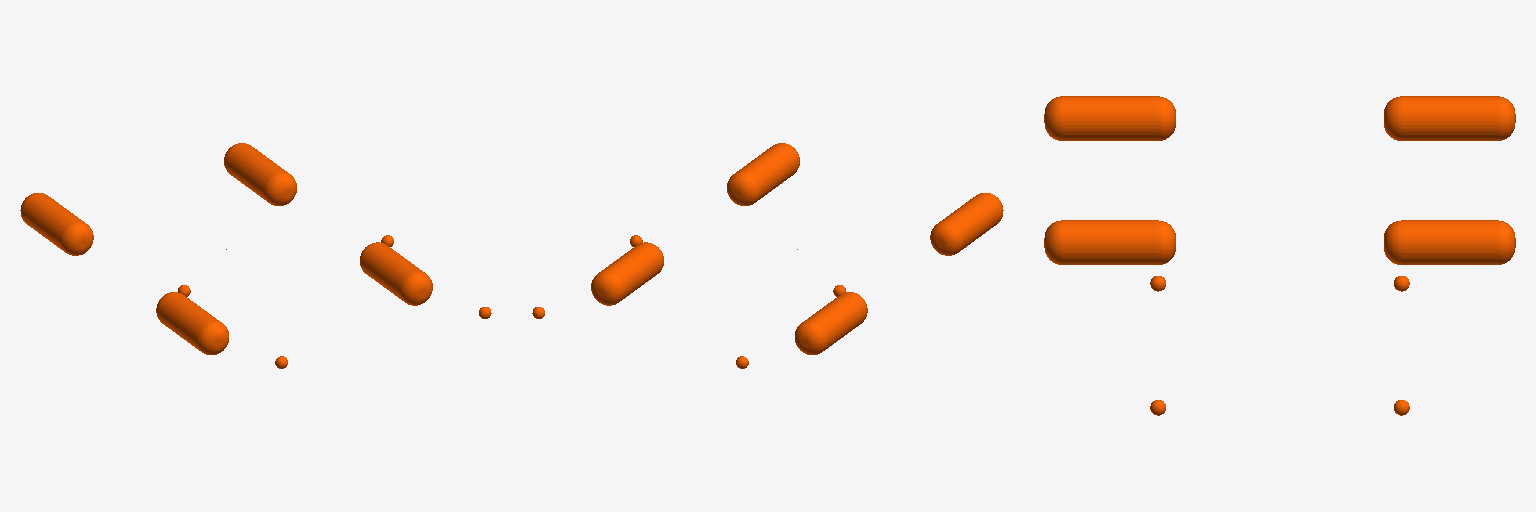
--- Facts derived from the render (not from the file) ---
3 views of the same robot in one strip: view 1: azimuth 30°, elevation 25°; view 2: azimuth 150°, elevation 25°; view 3: azimuth 270°, elevation 25° (orthographic).
Robot: cyberdog2_description — 23 links, 22 joints (12 revolute, 10 fixed); root link base; default pose: all joints at 0 but 4 set to mid-range because 0 is outside their limits (FR_calf_joint = -1.53, FL_calf_joint = -1.53, RR_calf_joint = -1.53, RL_calf_joint = -1.53).
Visible links, largest first — view 1: FL_thigh, FR_thigh, RL_thigh, RR_thigh; view 2: FR_thigh, FL_thigh, RR_thigh, RL_thigh; view 3: RR_thigh, RL_thigh, FR_thigh, FL_thigh.
Link boxes in pixels (x1,y1,x2,y2): FL_thigh: (224, 143, 296, 205); FR_thigh: (360, 242, 432, 305); RL_thigh: (20, 193, 93, 255); RR_thigh: (156, 292, 228, 354); FR_thigh: (727, 143, 799, 205); FL_thigh: (591, 242, 663, 305); RR_thigh: (930, 193, 1003, 255); RL_thigh: (795, 292, 867, 354); RR_thigh: (1044, 96, 1175, 140); RL_thigh: (1384, 96, 1515, 140); FR_thigh: (1044, 220, 1175, 264); FL_thigh: (1384, 220, 1515, 264).
Bounding box of the posed robot: 0.536 × 0.5263 × 0.1561 m (x, y, z).
Meshes: 5 distinct files referenced, 4 mesh visuals loaded (2 Collada DAE); not drawn: 9 (reference not matched to a file when rendering).

robot.urdf — cyberdog2_description:
<?xml version="1.0" ?>
<!-- =================================================================================== -->
<!-- |    This document was autogenerated by xacro from resources/robots/cyberdog2/xacro/robot.xacro | -->
<!-- |    EDITING THIS FILE BY HAND IS NOT RECOMMENDED                                 | -->
<!-- =================================================================================== -->
<robot name="cyberdog2_description">
  <!-- <xacro:property name="abad_damping" value="0.01" />
    <xacro:property name="hip_damping" value="0.01" />
    <xacro:property name="knee_damping" value="0.01" />
    <xacro:property name="abad_friction" value="0.1" />
    <xacro:property name="hip_friction" value="0.1" />
    <xacro:property name="knee_friction" value="0.1" /> -->
  <!-- <xacro:include filename="gazebo.xacro" /> -->
  <material name="black">
    <color rgba="0.0 0.0 0.0 1.0"/>
  </material>
  <material name="blue">
    <color rgba="0.0 0.0 0.8 1.0"/>
  </material>
  <material name="green">
    <color rgba="0.0 0.8 0.0 1.0"/>
  </material>
  <material name="grey">
    <color rgba="0.2 0.2 0.2 1.0"/>
  </material>
  <material name="silver">
    <color rgba="0.9137254901960784 0.9137254901960784 0.8470588235294118 1.0"/>
  </material>
  <material name="orange">
    <color rgba="1.0 0.4235294117647059 0.0392156862745098 1.0"/>
  </material>
  <material name="brown">
    <color rgba="0.8705882352941177 0.8117647058823529 0.7647058823529411 1.0"/>
  </material>
  <material name="red">
    <color rgba="0.8 0.0 0.0 1.0"/>
  </material>
  <material name="white">
    <color rgba="1.0 1.0 1.0 1.0"/>
  </material>
  <link name="base">
    <visual>
      <origin rpy="0 0 0" xyz="0 0 0"/>
      <geometry>
        <box size="0.001 0.001 0.001"/>
      </geometry>
    </visual>
  </link>
  <joint name="floating_base" type="fixed">
    <origin rpy="0 0 0" xyz="0 0 0"/>
    <parent link="base"/>
    <child link="trunk"/>
  </joint>
  <link name="trunk">
    <visual>
      <origin rpy="0 0 0" xyz="0 0 0"/>
      <geometry>
        <mesh filename="../meshes/body.dae" scale="1 1 1"/>
      </geometry>
    </visual>
    <collision>
      <origin rpy="0 0 0" xyz="0 0 0"/>
      <geometry>
        <box size="0.236 0.19 0.109"/>
      </geometry>
    </collision>
    <inertial>
      <origin rpy="0 0 0" xyz="0.0273 -0.000242 0.0143"/>
      <mass value="4.03"/>
      <inertia ixx="0.0185" ixy="-0.000173" ixz="-0.0102" iyy="0.0517" iyz="-2.83e-05" izz="0.0483"/>
    </inertial>
  </link>
  <!-- <joint name="imu_joint" type="fixed">
        <parent link="body" />
        <child link="imu_link" />
        <origin rpy="0 0 0" xyz="33.4e-3 -17.2765e-3 51.0469e-3" />
    </joint>

    <link name="imu_link">
        <inertial>
            <mass value="0.001" />
            <origin rpy="0 0 0" xyz="0 0 0" />
            <inertia ixx="0.0001" ixy="0" ixz="0" iyy="0.0001" iyz="0" izz="0.0001" />
        </inertial>
        <visual>
            <origin rpy="0 0 0" xyz="0 0 0" />
            <geometry>
                <box size="0.001 0.001 0.001" />
            </geometry>
        </visual>
        <collision>
            <origin rpy="0 0 0" xyz="0 0 0" />
            <geometry>
                <box size=".001 .001 .001" />
            </geometry>
        </collision>
    </link>

    <joint name="scan_joint" type="fixed">
        <parent link="body" />
        <child link="lidar_link" />
        <origin rpy="0 0 0" xyz="0.21425 0 0.0908" />
    </joint>

    <link name="lidar_link">    
      <inertial>
            <mass value="0.001" />
            <origin rpy="0 0 0" xyz="0 0 0" />
            <inertia ixx="0.0001" ixy="0" ixz="0" iyy="0.0001" iyz="0" izz="0.0001" />
      </inertial>
    </link>

    <joint name="D435_camera_joint" type="fixed">
        <parent link="body" />
        <child link="D435_camera_link" />
        <origin rpy="0 0 0" xyz="271.994e-3 25e-3 114.912e-3" />
    </joint>

    <link name="D435_camera_link">
        <inertial>
            <mass value="0.001" />
            <origin rpy="0 0 0" xyz="0 0 0" />
            <inertia ixx="0.0001" ixy="0" ixz="0" iyy="0.0001" iyz="0" izz="0.0001" />
        </inertial>
        <visual>
            <origin rpy="0 0 0" xyz="0 0 0" />
            <geometry>
                <box size="0.001 0.001 0.001" />
            </geometry>
        </visual>
        <collision>
            <origin rpy="0 0 0" xyz="0 0 0" />
            <geometry>
                <box size=".001 .001 .001" />
            </geometry>
        </collision>
    </link>

    <joint name="RGB_camera_joint" type="fixed">
        <parent link="body" />
        <child link="RGB_camera_link" />
        <origin rpy="0 0 0" xyz="275.76e-3 0 125.794e-3" />
    </joint>

    <link name="RGB_camera_link">
        <inertial>
            <mass value="0.001" />
            <origin rpy="0 0 0" xyz="0 0 0" />
            <inertia ixx="0.0001" ixy="0" ixz="0" iyy="0.0001" iyz="0" izz="0.0001" />
        </inertial>
        <visual>
            <origin rpy="0 0 0" xyz="0 0 0" />
            <geometry>
                <box size="0.001 0.001 0.001" />
            </geometry>
        </visual>
        <collision>
            <origin rpy="0 0 0" xyz="0 0 0" />
            <geometry>
                <box size=".001 .001 .001" />
            </geometry>
        </collision>
    </link>

    <joint name="AI_camera_joint" type="fixed">
        <parent link="body" />
        <child link="AI_camera_link" />
        <origin rpy="0 0 0" xyz="290.228e-3 0 147.420e-3" />
    </joint>

    <link name="AI_camera_link">
        <inertial>
            <mass value="0.001" />
            <origin rpy="0 0 0" xyz="0 0 0" />
            <inertia ixx="0.0001" ixy="0" ixz="0" iyy="0.0001" iyz="0" izz="0.0001" />
        </inertial>
        <visual>
            <origin rpy="0 0 0" xyz="0 0 0" />
            <geometry>
                <box size="0.001 0.001 0.001" />
            </geometry>
        </visual>
        <collision>
            <origin rpy="0 0 0" xyz="0 0 0" />
            <geometry>
                <box size=".001 .001 .001" />
            </geometry>
        </collision>
    </link> -->
  <joint name="FR_hip_joint" type="revolute">
    <origin rpy="0 0 0" xyz="0.164 -0.042 0"/>
    <parent link="trunk"/>
    <child link="FR_hip"/>
    <axis xyz="1 0 0"/>
    <dynamics damping="0.0" friction="0.0"/>
    <limit effort="12.0001" lower="-0.6806784082777885" upper="0.6806784082777885" velocity="30.9971"/>
  </joint>
  <link name="FR_hip">
    <visual>
      <origin rpy="3.141592653589793 0 0" xyz="0 0 0"/>
      <geometry>
        <mesh filename="../meshes/abad.dae" scale="1 1 1"/>
      </geometry>
      <material name="orange"/>
    </visual>
    <collision>
      <origin rpy="1.5707963267948966 0 0" xyz="0 0 0"/>
      <geometry>
        <cylinder length="0.035" radius="0.039"/>
      </geometry>
    </collision>
    <inertial>
      <origin rpy="0 0 0" xyz="-0.00392 -0.015 -0.000306"/>
      <mass value="0.354"/>
      <inertia ixx="0.00019" ixy="2.7e-05" ixz="-3.44e-07" iyy="0.000276" iyz="-1.95e-06" izz="0.000233"/>
    </inertial>
  </link>
  <!-- <joint name="${name}_hip_rotor_fix" type="fixed">
            <origin rpy="0 0 0" xyz="${-abad_rotor_offset*front_hind} 0 0" />
            <parent link="${name}_hip" />
            <child link="${name}_hip_rotor" />
        </joint> -->
  <!-- this link is only for abad rotor inertial -->
  <!-- <link name="${name}_hip_rotor">
            <inertial>
                <origin rpy="0 0 0" xyz="${rotor_com_x} ${rotor_com_y} ${rotor_com_z}" />
                <mass value="${rotor_mass}" />
                <inertia ixx="${rotor_ixx}" ixy="${rotor_ixy}" ixz="${rotor_ixz}" iyy="${rotor_iyy}" iyz="${rotor_iyz}" izz="${rotor_izz}" />
            </inertial>
        </link> -->
  <joint name="FR_hip_fixed" type="fixed">
    <origin rpy="0 0 0" xyz="0 -0.059 0"/>
    <parent link="FR_hip"/>
    <child link="FR_thigh_shoulder"/>
  </joint>
  <link name="FR_thigh_shoulder">
    <collision>
      <origin rpy="1.5707963267948966 0 0" xyz="0 0 0"/>
      <geometry>
        <cylinder length="0.035" radius="0.039"/>
      </geometry>
    </collision>
  </link>
  <joint name="FR_thigh_joint" type="revolute">
    <origin rpy="0 0 0" xyz="0 -0.094 0"/>
    <parent link="FR_hip"/>
    <child link="FR_thigh"/>
    <axis xyz="0 1 0"/>
    <dynamics damping="0.0" friction="0.0"/>
    <limit effort="12.0001" lower="-1.3264502315156903" upper="2.792526803190927" velocity="30.9971"/>
  </joint>
  <link name="FR_thigh">
    <visual>
      <origin rpy="0 0 0" xyz="0 0 0"/>
      <geometry>
        <mesh filename="../meshes/hip_mirror.dae" scale="1 1 1"/>
      </geometry>
      <material name="orange"/>
    </visual>
    <collision>
      <origin rpy="0 1.5707963267948966 0" xyz="0 0 -0.06"/>
      <geometry>
        <box size="0.12 0.025 0.034"/>
      </geometry>
    </collision>
    <inertial>
      <origin rpy="0 0 0" xyz="-0.00212 0.0212 -0.0184"/>
      <mass value="0.482"/>
      <inertia ixx="0.00101" ixy="-2.23e-05" ixz="-3.85e-05" iyy="0.000983" iyz="-0.000199" izz="0.000347"/>
    </inertial>
  </link>
  <!-- <joint name="${name}_thigh_rotor_fix" type="fixed">
            <origin rpy="0 0 0" xyz="0 ${hip_rotor_offset*mirror} 0" />
            <parent link="${name}_thigh" />
            <child link="${name}_thigh_rotor" />
        </joint> -->
  <!-- this link is only for hip rotor inertial -->
  <!-- <link name="${name}_thigh_rotor">
            <inertial>
                <origin rpy="0 0 0" xyz="${rotor_com_x} ${rotor_com_y} ${rotor_com_z}" />
                <mass value="${rotor_mass}" />
                <inertia ixx="${rotor_ixx}" ixy="${rotor_ixy}" ixz="${rotor_ixz}" iyy="${rotor_iyy}" iyz="${rotor_iyz}" izz="${rotor_izz}" />
            </inertial>
        </link> -->
  <!-- <joint name="${name}_calf_rotor_fix" type="fixed">
            <origin rpy="0 0 0" xyz="0 ${knee_rotor_offset*mirror} 0" />
            <parent link="${name}_thigh" />
            <child link="${name}_calf_rotor" />
        </joint> -->
  <!-- this link is only for knee rotor inertial -->
  <!-- <link name="${name}_calf_rotor">
            <inertial>
                <origin rpy="0 0 0" xyz="${rotor_com_x} ${rotor_com_y} ${rotor_com_z}" />
                <mass value="${rotor_mass}" />
                <inertia ixx="${rotor_ixx}" ixy="${rotor_ixy}" ixz="${rotor_ixz}" iyy="${rotor_iyy}" iyz="${rotor_iyz}" izz="${rotor_izz}" />
            </inertial>
        </link> -->
  <joint name="FR_calf_joint" type="revolute">
    <origin rpy="0 0 0" xyz="0 0 -0.12"/>
    <parent link="FR_thigh"/>
    <child link="FR_calf"/>
    <axis xyz="0 1 0"/>
    <dynamics damping="0.0" friction="0.0"/>
    <limit effort="12.0001" lower="-2.5307274153917776" upper="-0.5235987755982988" velocity="30.9971"/>
  </joint>
  <link name="FR_calf">
    <visual>
      <origin rpy="0 0 0" xyz="0 0 0"/>
      <geometry>
        <mesh filename="../meshes/knee.dae" scale="1 1 1"/>
      </geometry>
      <material name="orange"/>
    </visual>
    <collision>
      <origin rpy="0 3.141592653589793 0" xyz="0 0 -0.091705"/>
      <geometry>
        <box size="0.016 0.016 0.18341"/>
      </geometry>
    </collision>
    <!-- <collision name="FR_calf_rubber">
      <origin rpy="0 3.141592653589793 0" xyz="-0.01 0 -0.007"/>
      <geometry>
        <sphere radius="0.016"/>
      </geometry>
      <surface>
        <contact>
          <ode>
            <max_vel>0.00001</max_vel>
            <min_depth>0.0</min_depth>
          </ode>
        </contact>
      </surface>
    </collision> -->
    <inertial>
      <origin rpy="0 0 0" xyz="0.0006 -4.72e-05 -0.0893"/>
      <mass value="0.116"/>
      <inertia ixx="0.000668" ixy="3e-09" ixz="2.37e-05" iyy="0.000674" iyz="6.03e-07" izz="1.54e-05"/>
    </inertial>
  </link>
  <joint dont_collapse="true" name="FR_foot_fixed" type="fixed">
    <origin rpy="0 0 0" xyz="0.0055 0 -0.17390999999999998"/>
    <parent link="FR_calf"/>
    <child link="FR_foot"/>
  </joint>
  <link name="FR_foot">
    <visual>
      <origin rpy="0 0 0" xyz="0 0 0"/>
      <geometry>
        <sphere radius="0.009"/>
      </geometry>
      <material name="orange"/>
    </visual>
    <collision>
      <origin rpy="0 0 0" xyz="0 0 0"/>
      <geometry>
        <sphere radius="0.019"/>
      </geometry>
      <surface>
        <contact>
          <ode>
            <max_vel>0.001</max_vel>
            <min_depth>0.0</min_depth>
          </ode>
        </contact>
      </surface>
    </collision>
  </link>
  <transmission name="FR_abad_tran">
    <type>transmission_interface/SimpleTransmission</type>
    <joint name="FR_abad_joint">
      <hardwareInterface>hardware_interface/EffortJointInterface</hardwareInterface>
    </joint>
    <actuator name="FR_abad_motor">
      <hardwareInterface>hardware_interface/EffortJointInterface</hardwareInterface>
      <mechanicalReduction>7.75</mechanicalReduction>
    </actuator>
  </transmission>
  <transmission name="FR_hip_tran">
    <type>transmission_interface/SimpleTransmission</type>
    <joint name="FR_hip_joint">
      <hardwareInterface>hardware_interface/EffortJointInterface</hardwareInterface>
    </joint>
    <actuator name="FR_hip_motor">
      <hardwareInterface>hardware_interface/EffortJointInterface</hardwareInterface>
      <mechanicalReduction>7.75</mechanicalReduction>
    </actuator>
  </transmission>
  <transmission name="FR_knee_tran">
    <type>transmission_interface/SimpleTransmission</type>
    <joint name="FR_knee_joint">
      <hardwareInterface>hardware_interface/EffortJointInterface</hardwareInterface>
    </joint>
    <actuator name="FR_knee_motor">
      <hardwareInterface>hardware_interface/EffortJointInterface</hardwareInterface>
      <mechanicalReduction>7.75</mechanicalReduction>
    </actuator>
  </transmission>
  <joint name="FL_hip_joint" type="revolute">
    <origin rpy="0 0 0" xyz="0.164 0.042 0"/>
    <parent link="trunk"/>
    <child link="FL_hip"/>
    <axis xyz="1 0 0"/>
    <dynamics damping="0.0" friction="0.0"/>
    <limit effort="12.0001" lower="-0.6806784082777885" upper="0.6806784082777885" velocity="30.9971"/>
  </joint>
  <link name="FL_hip">
    <visual>
      <origin rpy="0 0 0" xyz="0 0 0"/>
      <geometry>
        <mesh filename="../meshes/abad.dae" scale="1 1 1"/>
      </geometry>
      <material name="orange"/>
    </visual>
    <collision>
      <origin rpy="1.5707963267948966 0 0" xyz="0 0 0"/>
      <geometry>
        <cylinder length="0.035" radius="0.039"/>
      </geometry>
    </collision>
    <inertial>
      <origin rpy="0 0 0" xyz="-0.00392 0.015 -0.000306"/>
      <mass value="0.354"/>
      <inertia ixx="0.00019" ixy="-2.7e-05" ixz="-3.44e-07" iyy="0.000276" iyz="1.95e-06" izz="0.000233"/>
    </inertial>
  </link>
  <!-- <joint name="${name}_hip_rotor_fix" type="fixed">
            <origin rpy="0 0 0" xyz="${-abad_rotor_offset*front_hind} 0 0" />
            <parent link="${name}_hip" />
            <child link="${name}_hip_rotor" />
        </joint> -->
  <!-- this link is only for abad rotor inertial -->
  <!-- <link name="${name}_hip_rotor">
            <inertial>
                <origin rpy="0 0 0" xyz="${rotor_com_x} ${rotor_com_y} ${rotor_com_z}" />
                <mass value="${rotor_mass}" />
                <inertia ixx="${rotor_ixx}" ixy="${rotor_ixy}" ixz="${rotor_ixz}" iyy="${rotor_iyy}" iyz="${rotor_iyz}" izz="${rotor_izz}" />
            </inertial>
        </link> -->
  <joint name="FL_hip_fixed" type="fixed">
    <origin rpy="0 0 0" xyz="0 0.059 0"/>
    <parent link="FL_hip"/>
    <child link="FL_thigh_shoulder"/>
  </joint>
  <link name="FL_thigh_shoulder">
    <collision>
      <origin rpy="1.5707963267948966 0 0" xyz="0 0 0"/>
      <geometry>
        <cylinder length="0.035" radius="0.039"/>
      </geometry>
    </collision>
  </link>
  <joint name="FL_thigh_joint" type="revolute">
    <origin rpy="0 0 0" xyz="0 0.094 0"/>
    <parent link="FL_hip"/>
    <child link="FL_thigh"/>
    <axis xyz="0 1 0"/>
    <dynamics damping="0.0" friction="0.0"/>
    <limit effort="12.0001" lower="-1.3264502315156903" upper="2.792526803190927" velocity="30.9971"/>
  </joint>
  <link name="FL_thigh">
    <visual>
      <origin rpy="0 0 0" xyz="0 0 0"/>
      <geometry>
        <mesh filename="../meshes/hip.dae" scale="1 1 1"/>
      </geometry>
      <material name="orange"/>
    </visual>
    <collision>
      <origin rpy="0 1.5707963267948966 0" xyz="0 0 -0.06"/>
      <geometry>
        <box size="0.12 0.025 0.034"/>
      </geometry>
    </collision>
    <inertial>
      <origin rpy="0 0 0" xyz="-0.00212 -0.0212 -0.0184"/>
      <mass value="0.482"/>
      <inertia ixx="0.00101" ixy="2.23e-05" ixz="-3.85e-05" iyy="0.000983" iyz="0.000199" izz="0.000347"/>
    </inertial>
  </link>
  <!-- <joint name="${name}_thigh_rotor_fix" type="fixed">
            <origin rpy="0 0 0" xyz="0 ${hip_rotor_offset*mirror} 0" />
            <parent link="${name}_thigh" />
            <child link="${name}_thigh_rotor" />
        </joint> -->
  <!-- this link is only for hip rotor inertial -->
  <!-- <link name="${name}_thigh_rotor">
            <inertial>
                <origin rpy="0 0 0" xyz="${rotor_com_x} ${rotor_com_y} ${rotor_com_z}" />
                <mass value="${rotor_mass}" />
                <inertia ixx="${rotor_ixx}" ixy="${rotor_ixy}" ixz="${rotor_ixz}" iyy="${rotor_iyy}" iyz="${rotor_iyz}" izz="${rotor_izz}" />
            </inertial>
        </link> -->
  <!-- <joint name="${name}_calf_rotor_fix" type="fixed">
            <origin rpy="0 0 0" xyz="0 ${knee_rotor_offset*mirror} 0" />
            <parent link="${name}_thigh" />
            <child link="${name}_calf_rotor" />
        </joint> -->
  <!-- this link is only for knee rotor inertial -->
  <!-- <link name="${name}_calf_rotor">
            <inertial>
                <origin rpy="0 0 0" xyz="${rotor_com_x} ${rotor_com_y} ${rotor_com_z}" />
                <mass value="${rotor_mass}" />
                <inertia ixx="${rotor_ixx}" ixy="${rotor_ixy}" ixz="${rotor_ixz}" iyy="${rotor_iyy}" iyz="${rotor_iyz}" izz="${rotor_izz}" />
            </inertial>
        </link> -->
  <joint name="FL_calf_joint" type="revolute">
    <origin rpy="0 0 0" xyz="0 0 -0.12"/>
    <parent link="FL_thigh"/>
    <child link="FL_calf"/>
    <axis xyz="0 1 0"/>
    <dynamics damping="0.0" friction="0.0"/>
    <limit effort="12.0001" lower="-2.5307274153917776" upper="-0.5235987755982988" velocity="30.9971"/>
  </joint>
  <link name="FL_calf">
    <visual>
      <origin rpy="0 0 0" xyz="0 0 0"/>
      <geometry>
        <mesh filename="../meshes/knee.dae" scale="1 1 1"/>
      </geometry>
      <material name="orange"/>
    </visual>
    <collision>
      <origin rpy="0 3.141592653589793 0" xyz="0 0 -0.091705"/>
      <geometry>
        <box size="0.016 0.016 0.18341"/>
      </geometry>
    </collision>
    <!-- <collision name="FL_calf_rubber">
      <origin rpy="0 3.141592653589793 0" xyz="-0.01 0 -0.007"/>
      <geometry>
        <sphere radius="0.016"/>
      </geometry>
      <surface>
        <contact>
          <ode>
            <max_vel>0.00001</max_vel>
            <min_depth>0.0</min_depth>
          </ode>
        </contact>
      </surface>
    </collision> -->
    <inertial>
      <origin rpy="0 0 0" xyz="0.0006 -4.72e-05 -0.0893"/>
      <mass value="0.116"/>
      <inertia ixx="0.000668" ixy="3e-09" ixz="2.37e-05" iyy="0.000674" iyz="6.03e-07" izz="1.54e-05"/>
    </inertial>
  </link>
  <joint dont_collapse="true" name="FL_foot_fixed" type="fixed">
    <origin rpy="0 0 0" xyz="0.0055 0 -0.17390999999999998"/>
    <parent link="FL_calf"/>
    <child link="FL_foot"/>
  </joint>
  <link name="FL_foot">
    <visual>
      <origin rpy="0 0 0" xyz="0 0 0"/>
      <geometry>
        <sphere radius="0.009"/>
      </geometry>
      <material name="orange"/>
    </visual>
    <collision>
      <origin rpy="0 0 0" xyz="0 0 0"/>
      <geometry>
        <sphere radius="0.019"/>
      </geometry>
      <surface>
        <contact>
          <ode>
            <max_vel>0.001</max_vel>
            <min_depth>0.0</min_depth>
          </ode>
        </contact>
      </surface>
    </collision>
  </link>
  <transmission name="FL_abad_tran">
    <type>transmission_interface/SimpleTransmission</type>
    <joint name="FL_abad_joint">
      <hardwareInterface>hardware_interface/EffortJointInterface</hardwareInterface>
    </joint>
    <actuator name="FL_abad_motor">
      <hardwareInterface>hardware_interface/EffortJointInterface</hardwareInterface>
      <mechanicalReduction>7.75</mechanicalReduction>
    </actuator>
  </transmission>
  <transmission name="FL_hip_tran">
    <type>transmission_interface/SimpleTransmission</type>
    <joint name="FL_hip_joint">
      <hardwareInterface>hardware_interface/EffortJointInterface</hardwareInterface>
    </joint>
    <actuator name="FL_hip_motor">
      <hardwareInterface>hardware_interface/EffortJointInterface</hardwareInterface>
      <mechanicalReduction>7.75</mechanicalReduction>
    </actuator>
  </transmission>
  <transmission name="FL_knee_tran">
    <type>transmission_interface/SimpleTransmission</type>
    <joint name="FL_knee_joint">
      <hardwareInterface>hardware_interface/EffortJointInterface</hardwareInterface>
    </joint>
    <actuator name="FL_knee_motor">
      <hardwareInterface>hardware_interface/EffortJointInterface</hardwareInterface>
      <mechanicalReduction>7.75</mechanicalReduction>
    </actuator>
  </transmission>
  <joint name="RR_hip_joint" type="revolute">
    <origin rpy="0 0 0" xyz="-0.164 -0.042 0"/>
    <parent link="trunk"/>
    <child link="RR_hip"/>
    <axis xyz="1 0 0"/>
    <dynamics damping="0.0" friction="0.0"/>
    <limit effort="12.0001" lower="-0.6806784082777885" upper="0.6806784082777885" velocity="30.9971"/>
  </joint>
  <link name="RR_hip">
    <visual>
      <origin rpy="3.141592653589793 3.141592653589793 0" xyz="0 0 0"/>
      <geometry>
        <mesh filename="../meshes/abad.dae" scale="1 1 1"/>
      </geometry>
      <material name="orange"/>
    </visual>
    <collision>
      <origin rpy="1.5707963267948966 0 0" xyz="0 0 0"/>
      <geometry>
        <cylinder length="0.035" radius="0.039"/>
      </geometry>
    </collision>
    <inertial>
      <origin rpy="0 0 0" xyz="0.00392 -0.015 -0.000306"/>
      <mass value="0.354"/>
      <inertia ixx="0.00019" ixy="-2.7e-05" ixz="3.44e-07" iyy="0.000276" iyz="-1.95e-06" izz="0.000233"/>
    </inertial>
  </link>
  <!-- <joint name="${name}_hip_rotor_fix" type="fixed">
            <origin rpy="0 0 0" xyz="${-abad_rotor_offset*front_hind} 0 0" />
            <parent link="${name}_hip" />
            <child link="${name}_hip_rotor" />
        </joint> -->
  <!-- this link is only for abad rotor inertial -->
  <!-- <link name="${name}_hip_rotor">
            <inertial>
                <origin rpy="0 0 0" xyz="${rotor_com_x} ${rotor_com_y} ${rotor_com_z}" />
                <mass value="${rotor_mass}" />
                <inertia ixx="${rotor_ixx}" ixy="${rotor_ixy}" ixz="${rotor_ixz}" iyy="${rotor_iyy}" iyz="${rotor_iyz}" izz="${rotor_izz}" />
            </inertial>
        </link> -->
  <joint name="RR_hip_fixed" type="fixed">
    <origin rpy="0 0 0" xyz="0 -0.059 0"/>
    <parent link="RR_hip"/>
    <child link="RR_thigh_shoulder"/>
  </joint>
  <link name="RR_thigh_shoulder">
    <collision>
      <origin rpy="1.5707963267948966 0 0" xyz="0 0 0"/>
      <geometry>
        <cylinder length="0.035" radius="0.039"/>
      </geometry>
    </collision>
  </link>
  <joint name="RR_thigh_joint" type="revolute">
    <origin rpy="0 0 0" xyz="0 -0.094 0"/>
    <parent link="RR_hip"/>
    <child link="RR_thigh"/>
    <axis xyz="0 1 0"/>
    <dynamics damping="0.0" friction="0.0"/>
    <limit effort="12.0001" lower="-0.9773843811168246" upper="3.141592653589793" velocity="30.9971"/>
  </joint>
  <link name="RR_thigh">
    <visual>
      <origin rpy="0 0 0" xyz="0 0 0"/>
      <geometry>
        <mesh filename="../meshes/hip_mirror.dae" scale="1 1 1"/>
      </geometry>
      <material name="orange"/>
    </visual>
    <collision>
      <origin rpy="0 1.5707963267948966 0" xyz="0 0 -0.06"/>
      <geometry>
        <box size="0.12 0.025 0.034"/>
      </geometry>
    </collision>
    <inertial>
      <origin rpy="0 0 0" xyz="-0.00212 0.0212 -0.0184"/>
      <mass value="0.482"/>
      <inertia ixx="0.00101" ixy="-2.23e-05" ixz="-3.85e-05" iyy="0.000983" iyz="-0.000199" izz="0.000347"/>
    </inertial>
  </link>
  <!-- <joint name="${name}_thigh_rotor_fix" type="fixed">
            <origin rpy="0 0 0" xyz="0 ${hip_rotor_offset*mirror} 0" />
            <parent link="${name}_thigh" />
            <child link="${name}_thigh_rotor" />
        </joint> -->
  <!-- this link is only for hip rotor inertial -->
  <!-- <link name="${name}_thigh_rotor">
            <inertial>
                <origin rpy="0 0 0" xyz="${rotor_com_x} ${rotor_com_y} ${rotor_com_z}" />
                <mass value="${rotor_mass}" />
                <inertia ixx="${rotor_ixx}" ixy="${rotor_ixy}" ixz="${rotor_ixz}" iyy="${rotor_iyy}" iyz="${rotor_iyz}" izz="${rotor_izz}" />
            </inertial>
        </link> -->
  <!-- <joint name="${name}_calf_rotor_fix" type="fixed">
            <origin rpy="0 0 0" xyz="0 ${knee_rotor_offset*mirror} 0" />
            <parent link="${name}_thigh" />
            <child link="${name}_calf_rotor" />
        </joint> -->
  <!-- this link is only for knee rotor inertial -->
  <!-- <link name="${name}_calf_rotor">
            <inertial>
                <origin rpy="0 0 0" xyz="${rotor_com_x} ${rotor_com_y} ${rotor_com_z}" />
                <mass value="${rotor_mass}" />
                <inertia ixx="${rotor_ixx}" ixy="${rotor_ixy}" ixz="${rotor_ixz}" iyy="${rotor_iyy}" iyz="${rotor_iyz}" izz="${rotor_izz}" />
            </inertial>
        </link> -->
  <joint name="RR_calf_joint" type="revolute">
    <origin rpy="0 0 0" xyz="0 0 -0.12"/>
    <parent link="RR_thigh"/>
    <child link="RR_calf"/>
    <axis xyz="0 1 0"/>
    <dynamics damping="0.0" friction="0.0"/>
    <limit effort="12.0001" lower="-2.5307274153917776" upper="-0.5235987755982988" velocity="30.9971"/>
  </joint>
  <link name="RR_calf">
    <visual>
      <origin rpy="0 0 0" xyz="0 0 0"/>
      <geometry>
        <mesh filename="../meshes/knee.dae" scale="1 1 1"/>
      </geometry>
      <material name="orange"/>
    </visual>
    <collision>
      <origin rpy="0 3.141592653589793 0" xyz="0 0 -0.091705"/>
      <geometry>
        <box size="0.016 0.016 0.18341"/>
      </geometry>
    </collision>
    <!-- <collision name="RR_calf_rubber">
      <origin rpy="0 3.141592653589793 0" xyz="-0.01 0 -0.007"/>
      <geometry>
        <sphere radius="0.016"/>
      </geometry>
      <surface>
        <contact>
          <ode>
            <max_vel>0.00001</max_vel>
            <min_depth>0.0</min_depth>
          </ode>
        </contact>
      </surface>
    </collision> -->
    <inertial>
      <origin rpy="0 0 0" xyz="0.0006 -4.72e-05 -0.0893"/>
      <mass value="0.116"/>
      <inertia ixx="0.000668" ixy="3e-09" ixz="2.37e-05" iyy="0.000674" iyz="6.03e-07" izz="1.54e-05"/>
    </inertial>
  </link>
  <joint dont_collapse="true" name="RR_foot_fixed" type="fixed">
    <origin rpy="0 0 0" xyz="0.0055 0 -0.17390999999999998"/>
    <parent link="RR_calf"/>
    <child link="RR_foot"/>
  </joint>
  <link name="RR_foot">
    <visual>
      <origin rpy="0 0 0" xyz="0 0 0"/>
      <geometry>
        <sphere radius="0.009"/>
      </geometry>
      <material name="orange"/>
    </visual>
    <collision>
      <origin rpy="0 0 0" xyz="0 0 0"/>
      <geometry>
        <sphere radius="0.019"/>
      </geometry>
      <surface>
        <contact>
          <ode>
            <max_vel>0.001</max_vel>
            <min_depth>0.0</min_depth>
          </ode>
        </contact>
      </surface>
    </collision>
  </link>
  <transmission name="RR_abad_tran">
    <type>transmission_interface/SimpleTransmission</type>
    <joint name="RR_abad_joint">
      <hardwareInterface>hardware_interface/EffortJointInterface</hardwareInterface>
    </joint>
    <actuator name="RR_abad_motor">
      <hardwareInterface>hardware_interface/EffortJointInterface</hardwareInterface>
      <mechanicalReduction>7.75</mechanicalReduction>
    </actuator>
  </transmission>
  <transmission name="RR_hip_tran">
    <type>transmission_interface/SimpleTransmission</type>
    <joint name="RR_hip_joint">
      <hardwareInterface>hardware_interface/EffortJointInterface</hardwareInterface>
    </joint>
    <actuator name="RR_hip_motor">
      <hardwareInterface>hardware_interface/EffortJointInterface</hardwareInterface>
      <mechanicalReduction>7.75</mechanicalReduction>
    </actuator>
  </transmission>
  <transmission name="RR_knee_tran">
    <type>transmission_interface/SimpleTransmission</type>
    <joint name="RR_knee_joint">
      <hardwareInterface>hardware_interface/EffortJointInterface</hardwareInterface>
    </joint>
    <actuator name="RR_knee_motor">
      <hardwareInterface>hardware_interface/EffortJointInterface</hardwareInterface>
      <mechanicalReduction>7.75</mechanicalReduction>
    </actuator>
  </transmission>
  <joint name="RL_hip_joint" type="revolute">
    <origin rpy="0 0 0" xyz="-0.164 0.042 0"/>
    <parent link="trunk"/>
    <child link="RL_hip"/>
    <axis xyz="1 0 0"/>
    <dynamics damping="0.0" friction="0.0"/>
    <limit effort="12.0001" lower="-0.6806784082777885" upper="0.6806784082777885" velocity="30.9971"/>
  </joint>
  <link name="RL_hip">
    <visual>
      <origin rpy="0 3.141592653589793 0" xyz="0 0 0"/>
      <geometry>
        <mesh filename="../meshes/abad.dae" scale="1 1 1"/>
      </geometry>
      <material name="orange"/>
    </visual>
    <collision>
      <origin rpy="1.5707963267948966 0 0" xyz="0 0 0"/>
      <geometry>
        <cylinder length="0.035" radius="0.039"/>
      </geometry>
    </collision>
    <inertial>
      <origin rpy="0 0 0" xyz="0.00392 0.015 -0.000306"/>
      <mass value="0.354"/>
      <inertia ixx="0.00019" ixy="2.7e-05" ixz="3.44e-07" iyy="0.000276" iyz="1.95e-06" izz="0.000233"/>
    </inertial>
  </link>
  <!-- <joint name="${name}_hip_rotor_fix" type="fixed">
            <origin rpy="0 0 0" xyz="${-abad_rotor_offset*front_hind} 0 0" />
            <parent link="${name}_hip" />
            <child link="${name}_hip_rotor" />
        </joint> -->
  <!-- this link is only for abad rotor inertial -->
  <!-- <link name="${name}_hip_rotor">
            <inertial>
                <origin rpy="0 0 0" xyz="${rotor_com_x} ${rotor_com_y} ${rotor_com_z}" />
                <mass value="${rotor_mass}" />
                <inertia ixx="${rotor_ixx}" ixy="${rotor_ixy}" ixz="${rotor_ixz}" iyy="${rotor_iyy}" iyz="${rotor_iyz}" izz="${rotor_izz}" />
            </inertial>
        </link> -->
  <joint name="RL_hip_fixed" type="fixed">
    <origin rpy="0 0 0" xyz="0 0.059 0"/>
    <parent link="RL_hip"/>
    <child link="RL_thigh_shoulder"/>
  </joint>
  <link name="RL_thigh_shoulder">
    <collision>
      <origin rpy="1.5707963267948966 0 0" xyz="0 0 0"/>
      <geometry>
        <cylinder length="0.035" radius="0.039"/>
      </geometry>
    </collision>
  </link>
  <joint name="RL_thigh_joint" type="revolute">
    <origin rpy="0 0 0" xyz="0 0.094 0"/>
    <parent link="RL_hip"/>
    <child link="RL_thigh"/>
    <axis xyz="0 1 0"/>
    <dynamics damping="0.0" friction="0.0"/>
    <limit effort="12.0001" lower="-0.9773843811168246" upper="3.141592653589793" velocity="30.9971"/>
  </joint>
  <link name="RL_thigh">
    <visual>
      <origin rpy="0 0 0" xyz="0 0 0"/>
      <geometry>
        <mesh filename="../meshes/hip.dae" scale="1 1 1"/>
      </geometry>
      <material name="orange"/>
    </visual>
    <collision>
      <origin rpy="0 1.5707963267948966 0" xyz="0 0 -0.06"/>
      <geometry>
        <box size="0.12 0.025 0.034"/>
      </geometry>
    </collision>
    <inertial>
      <origin rpy="0 0 0" xyz="-0.00212 -0.0212 -0.0184"/>
      <mass value="0.482"/>
      <inertia ixx="0.00101" ixy="2.23e-05" ixz="-3.85e-05" iyy="0.000983" iyz="0.000199" izz="0.000347"/>
    </inertial>
  </link>
  <!-- <joint name="${name}_thigh_rotor_fix" type="fixed">
            <origin rpy="0 0 0" xyz="0 ${hip_rotor_offset*mirror} 0" />
            <parent link="${name}_thigh" />
            <child link="${name}_thigh_rotor" />
        </joint> -->
  <!-- this link is only for hip rotor inertial -->
  <!-- <link name="${name}_thigh_rotor">
            <inertial>
                <origin rpy="0 0 0" xyz="${rotor_com_x} ${rotor_com_y} ${rotor_com_z}" />
                <mass value="${rotor_mass}" />
                <inertia ixx="${rotor_ixx}" ixy="${rotor_ixy}" ixz="${rotor_ixz}" iyy="${rotor_iyy}" iyz="${rotor_iyz}" izz="${rotor_izz}" />
            </inertial>
        </link> -->
  <!-- <joint name="${name}_calf_rotor_fix" type="fixed">
            <origin rpy="0 0 0" xyz="0 ${knee_rotor_offset*mirror} 0" />
            <parent link="${name}_thigh" />
            <child link="${name}_calf_rotor" />
        </joint> -->
  <!-- this link is only for knee rotor inertial -->
  <!-- <link name="${name}_calf_rotor">
            <inertial>
                <origin rpy="0 0 0" xyz="${rotor_com_x} ${rotor_com_y} ${rotor_com_z}" />
                <mass value="${rotor_mass}" />
                <inertia ixx="${rotor_ixx}" ixy="${rotor_ixy}" ixz="${rotor_ixz}" iyy="${rotor_iyy}" iyz="${rotor_iyz}" izz="${rotor_izz}" />
            </inertial>
        </link> -->
  <joint name="RL_calf_joint" type="revolute">
    <origin rpy="0 0 0" xyz="0 0 -0.12"/>
    <parent link="RL_thigh"/>
    <child link="RL_calf"/>
    <axis xyz="0 1 0"/>
    <dynamics damping="0.0" friction="0.0"/>
    <limit effort="12.0001" lower="-2.5307274153917776" upper="-0.5235987755982988" velocity="30.9971"/>
  </joint>
  <link name="RL_calf">
    <visual>
      <origin rpy="0 0 0" xyz="0 0 0"/>
      <geometry>
        <mesh filename="../meshes/knee.dae" scale="1 1 1"/>
      </geometry>
      <material name="orange"/>
    </visual>
    <collision>
      <origin rpy="0 3.141592653589793 0" xyz="0 0 -0.091705"/>
      <geometry>
        <box size="0.016 0.016 0.18341"/>
      </geometry>
    </collision>
    <!-- <collision name="RL_calf_rubber">
      <origin rpy="0 3.141592653589793 0" xyz="-0.01 0 -0.007"/>
      <geometry>
        <sphere radius="0.016"/>
      </geometry>
      <surface>
        <contact>
          <ode>
            <max_vel>0.00001</max_vel>
            <min_depth>0.0</min_depth>
          </ode>
        </contact>
      </surface>
    </collision> -->
    <inertial>
      <origin rpy="0 0 0" xyz="0.0006 -4.72e-05 -0.0893"/>
      <mass value="0.116"/>
      <inertia ixx="0.000668" ixy="3e-09" ixz="2.37e-05" iyy="0.000674" iyz="6.03e-07" izz="1.54e-05"/>
    </inertial>
  </link>
  <joint dont_collapse="true" name="RL_foot_fixed" type="fixed">
    <origin rpy="0 0 0" xyz="0.0055 0 -0.17390999999999998"/>
    <parent link="RL_calf"/>
    <child link="RL_foot"/>
  </joint>
  <link name="RL_foot">
    <visual>
      <origin rpy="0 0 0" xyz="0 0 0"/>
      <geometry>
        <sphere radius="0.009"/>
      </geometry>
      <material name="orange"/>
    </visual>
    <collision>
      <origin rpy="0 0 0" xyz="0 0 0"/>
      <geometry>
        <sphere radius="0.019"/>
      </geometry>
      <surface>
        <contact>
          <ode>
            <max_vel>0.001</max_vel>
            <min_depth>0.0</min_depth>
          </ode>
        </contact>
      </surface>
    </collision>
  </link>
  <transmission name="RL_abad_tran">
    <type>transmission_interface/SimpleTransmission</type>
    <joint name="RL_abad_joint">
      <hardwareInterface>hardware_interface/EffortJointInterface</hardwareInterface>
    </joint>
    <actuator name="RL_abad_motor">
      <hardwareInterface>hardware_interface/EffortJointInterface</hardwareInterface>
      <mechanicalReduction>7.75</mechanicalReduction>
    </actuator>
  </transmission>
  <transmission name="RL_hip_tran">
    <type>transmission_interface/SimpleTransmission</type>
    <joint name="RL_hip_joint">
      <hardwareInterface>hardware_interface/EffortJointInterface</hardwareInterface>
    </joint>
    <actuator name="RL_hip_motor">
      <hardwareInterface>hardware_interface/EffortJointInterface</hardwareInterface>
      <mechanicalReduction>7.75</mechanicalReduction>
    </actuator>
  </transmission>
  <transmission name="RL_knee_tran">
    <type>transmission_interface/SimpleTransmission</type>
    <joint name="RL_knee_joint">
      <hardwareInterface>hardware_interface/EffortJointInterface</hardwareInterface>
    </joint>
    <actuator name="RL_knee_motor">
      <hardwareInterface>hardware_interface/EffortJointInterface</hardwareInterface>
      <mechanicalReduction>7.75</mechanicalReduction>
    </actuator>
  </transmission>
  <!-- This link is only for head collision -->
  <joint name="head_joint" type="fixed">
    <parent link="trunk"/>
    <child link="head"/>
    <origin rpy="0 0 0" xyz="0 0 0"/>
  </joint>
  <link name="head">
    <collision>
      <origin rpy="0 0 0" xyz="0.256 0 0.120"/>
      <geometry>
        <box size="0.076 0.060 0.040"/>
      </geometry>
    </collision>
    <collision>
      <origin rpy="0 0 0" xyz="0.225 0 0.150"/>
      <geometry>
        <box size="0.020 0.080 0.100"/>
      </geometry>
    </collision>
  </link>
</robot>
